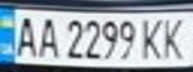2: (60, 16, 84, 61), (81, 16, 103, 61)
9: (115, 16, 142, 61), (100, 17, 121, 61)
A: (9, 12, 39, 59), (33, 13, 60, 60)
K: (157, 14, 193, 61), (136, 15, 169, 61)
